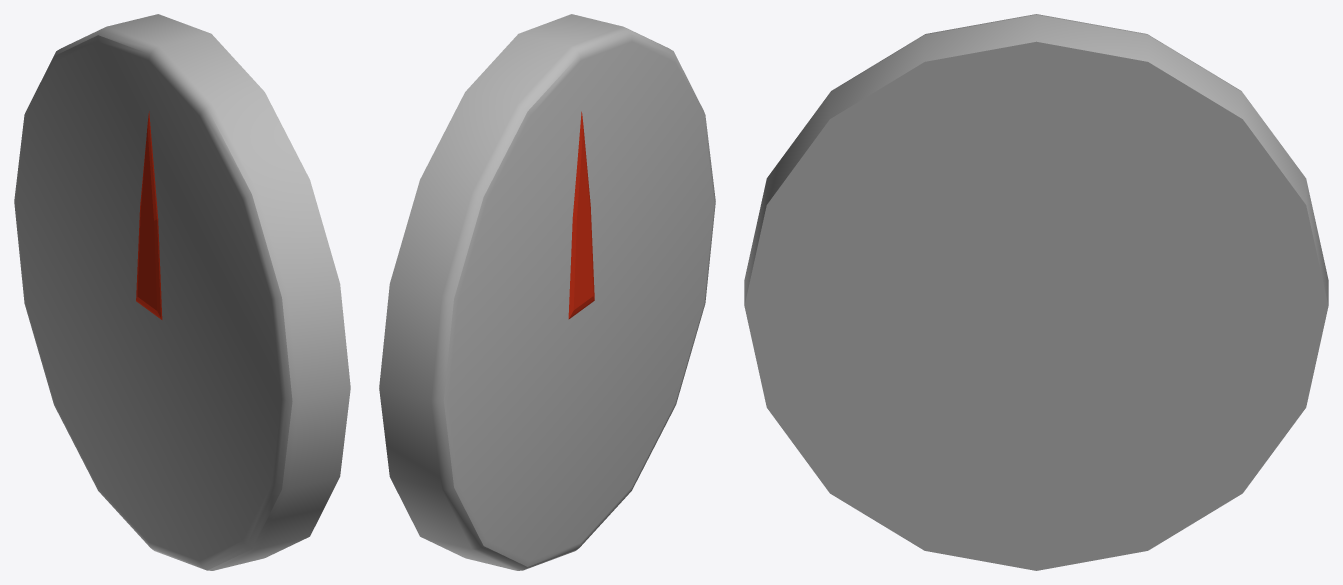
Rendered from Oven Dial 2.fbx.
3 renders of one model, left to right at view 1: azimuth 30°, elevation 25°; view 2: azimuth 150°, elevation 25°; view 3: azimuth 270°, elevation 25°, orthographic. The views are drawn at different scales.
Parts seen in each view (by area): view 1: Oven Dial 2; view 2: Oven Dial 2; view 3: Oven Dial 2.
Part boxes in pixels (<box>): Oven Dial 2: <box>14,14,350,570</box>; Oven Dial 2: <box>379,14,715,570</box>; Oven Dial 2: <box>744,14,1328,570</box>.
Size of the model in its own units: 0.488 by 3.64 by 3.64.
